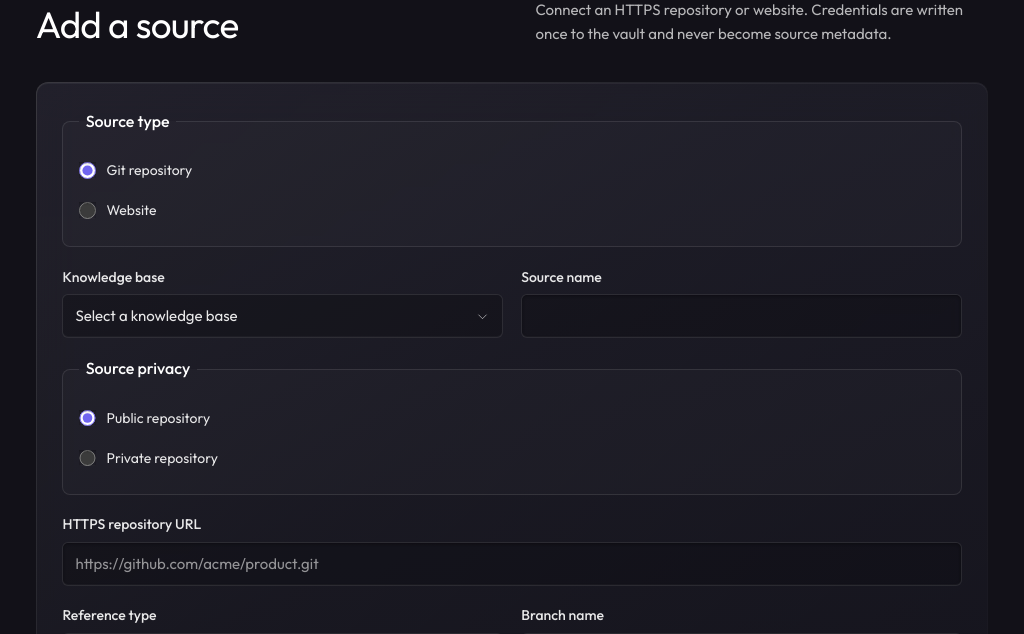
Scenario: website built-in crawl stays default and submits explicit builtin mode
This screenshot has width=1024, height=634.
Click the radio button labelled "Website".
click(88, 210)  # box [79,202,96,219]
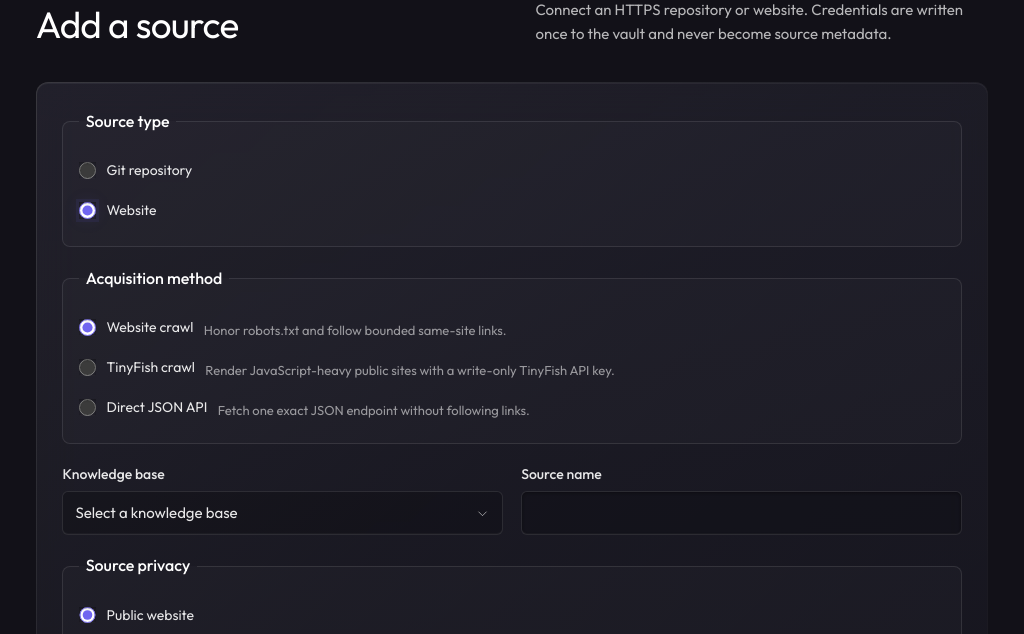
Select "Product docs · restricted" in the dropdown labelled "Knowledge base" at (283, 499), box [62,463,503,535]
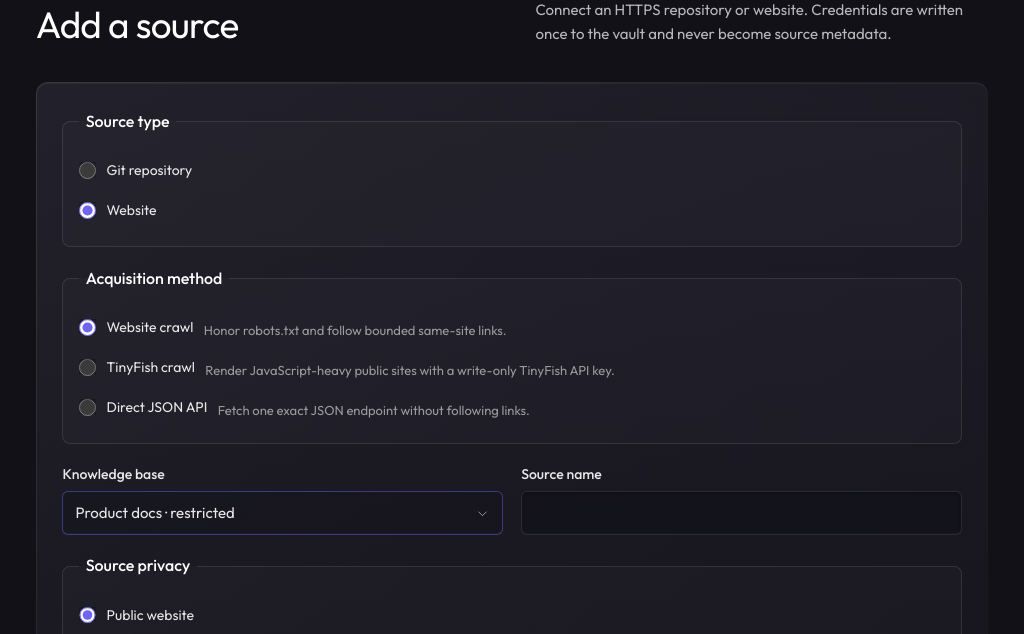
Type "Public docs site" into the field labelled "Source name".
click(741, 513); type("Public docs site")  # box [521,492,962,535]
(page scrolled)
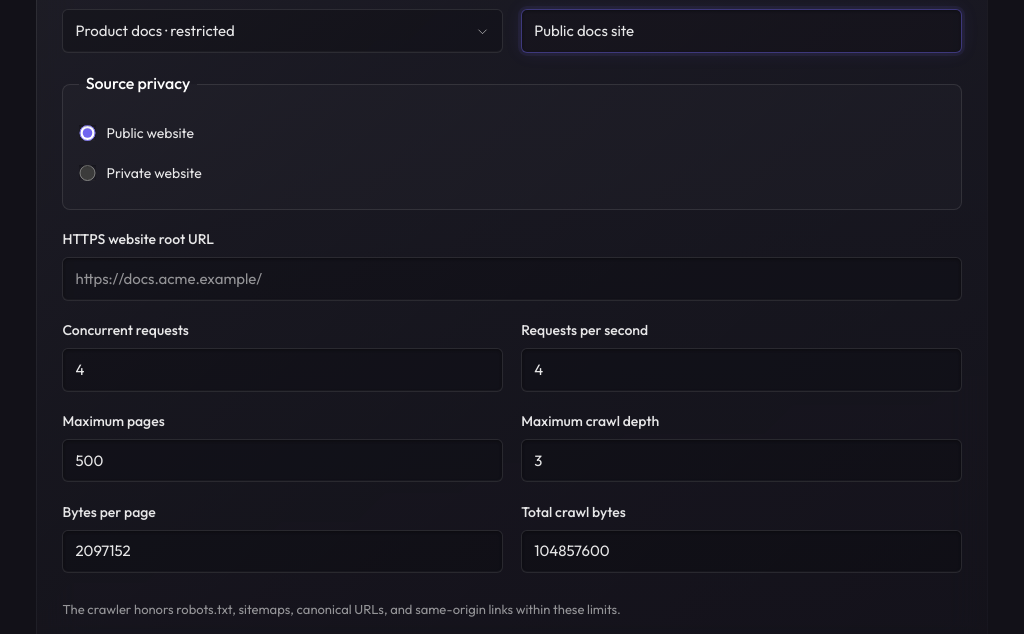
Check: the radio button labelled "Public website" is checked, box [79,125,96,141]
Type "https://docs.example/product/" into the field labelled "HTTPS website root URL".
click(512, 279); type("https://docs.example/product/")  # box [62,257,962,301]
(page scrolled)
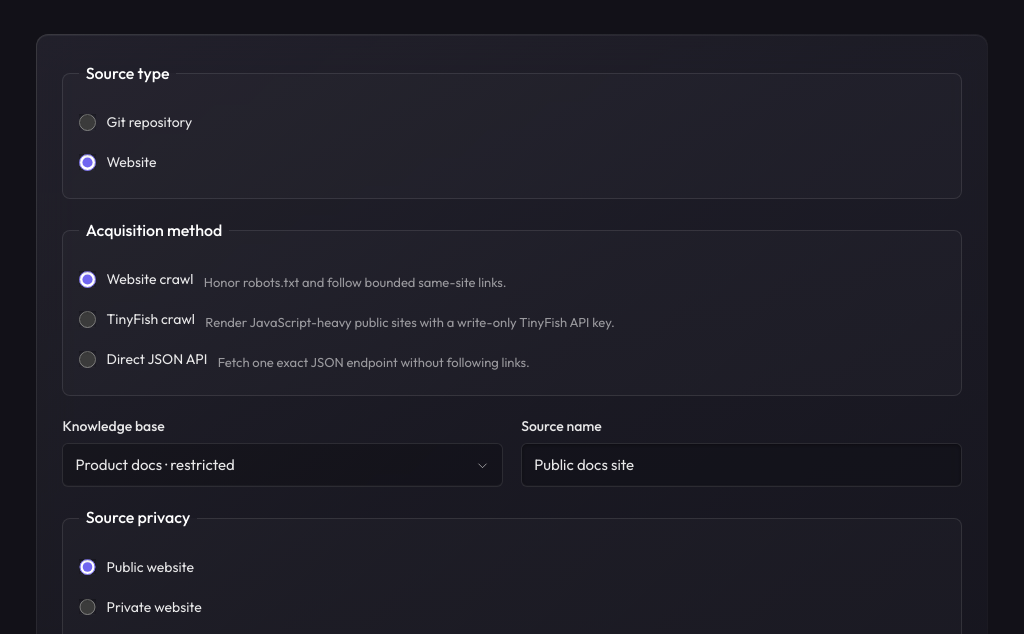
Click the radio button labelled "Website crawl".
click(88, 279)  # box [79,271,96,288]
(page scrolled)
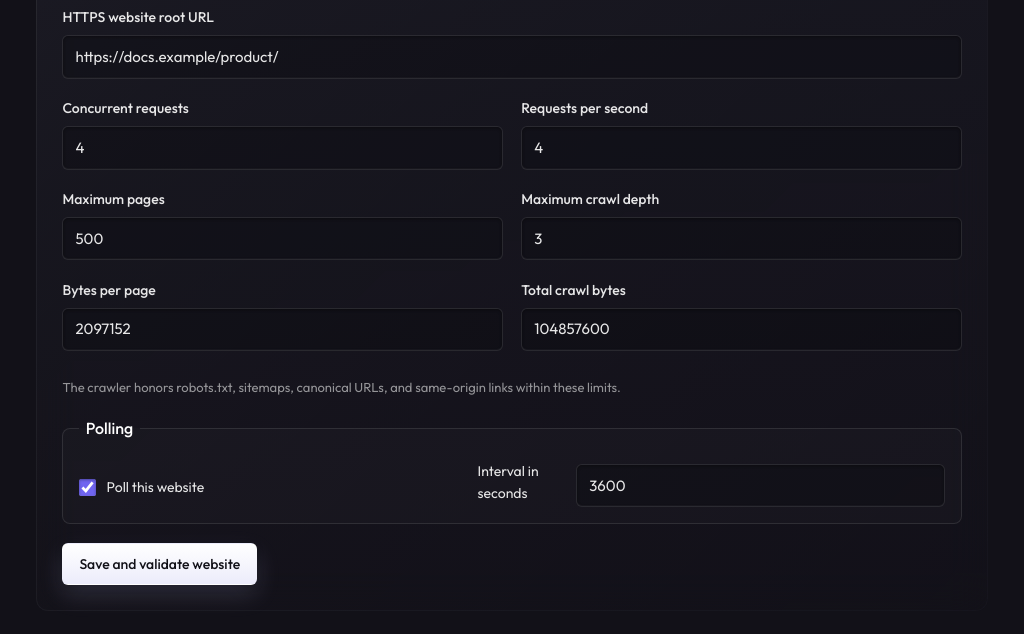
Click the button "Save and validate website".
click(160, 564)  # box [62,543,257,585]
(page scrolled)
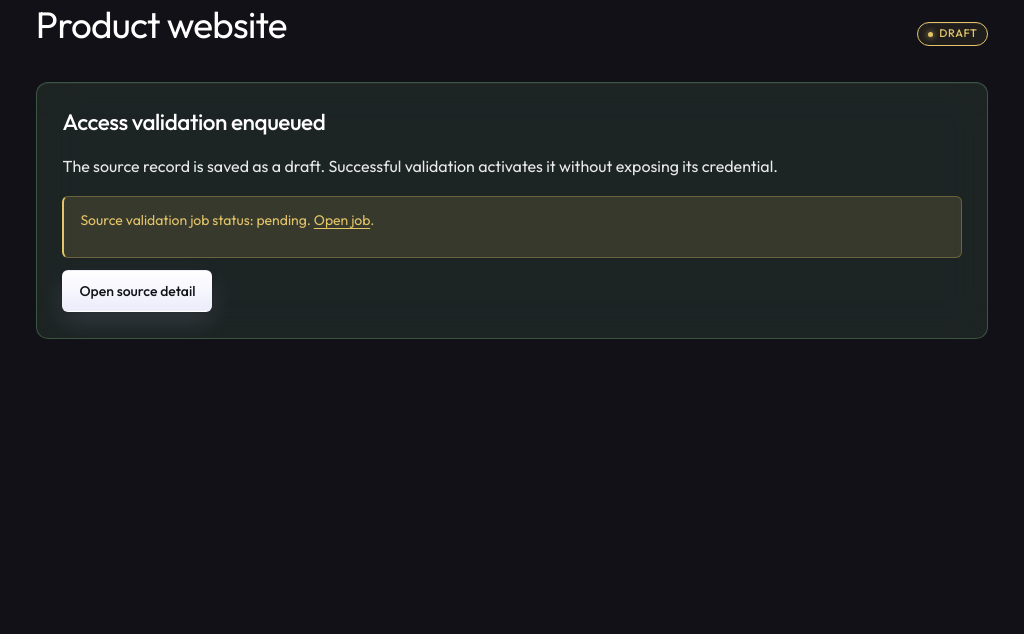
Check: the heading "Access validation enqueued" is shown, box [62,107,325,136]
